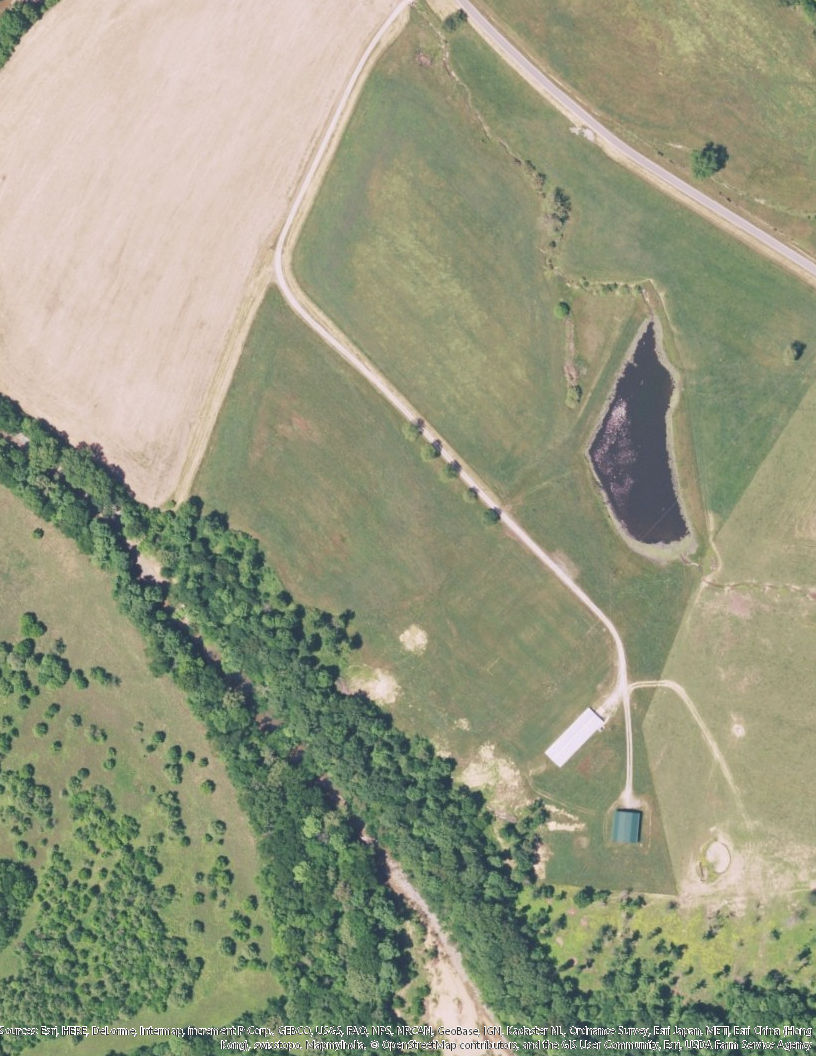cafo: (544, 707, 607, 766)
